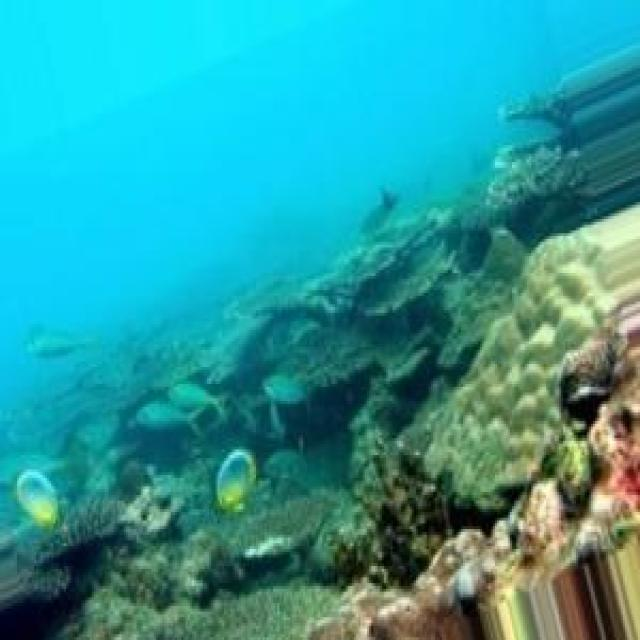bleached coral: (437, 208, 640, 498), (452, 523, 535, 640), (307, 586, 412, 640), (565, 435, 606, 512), (119, 484, 175, 532), (183, 407, 224, 441)
healthy coral: (230, 250, 386, 390), (0, 344, 134, 503), (87, 540, 201, 640), (499, 97, 614, 179), (288, 361, 388, 455), (265, 375, 305, 401)
